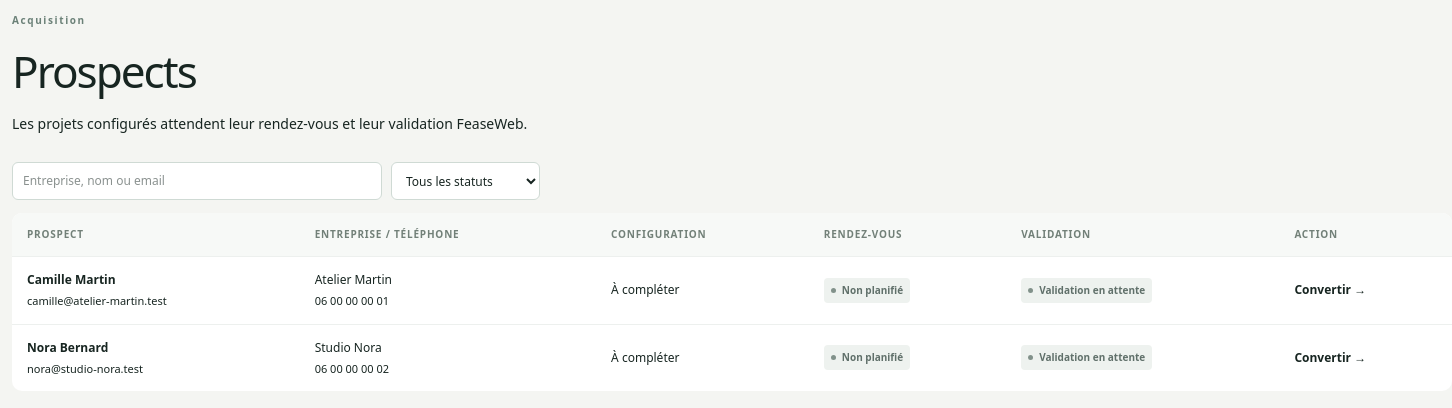
Scenario: back-office local console › filters prospects by company or email
The image size is (1452, 408).
Type "atelier" into the field named "Rechercher un prospect" at (197, 181), box x1=12 y1=162 x2=382 y2=200
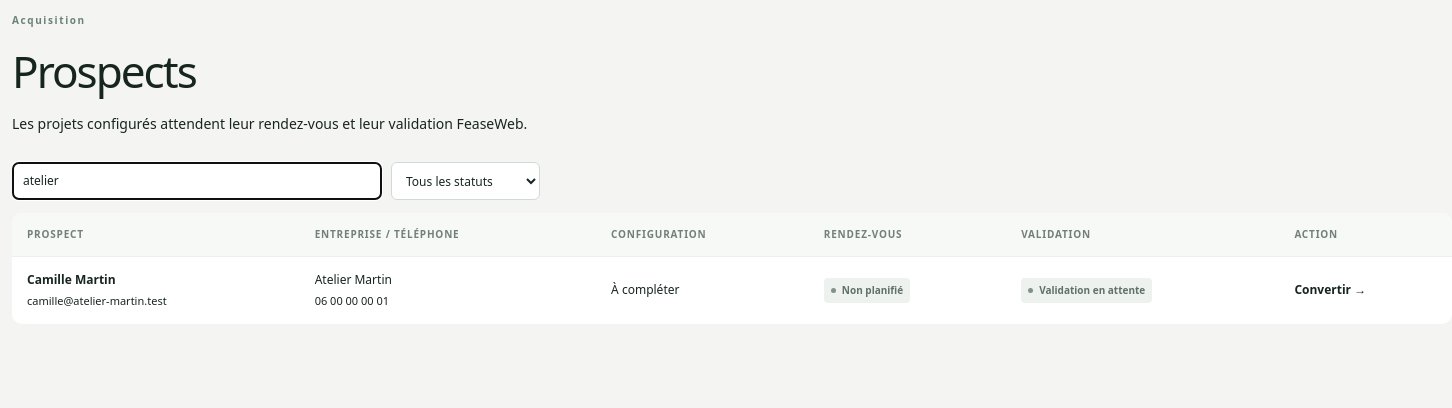
Expected: the text "Atelier Martin" is shown, x1=315 y1=271 x2=392 y2=288
Result: the text "Studio Nora" is gone
